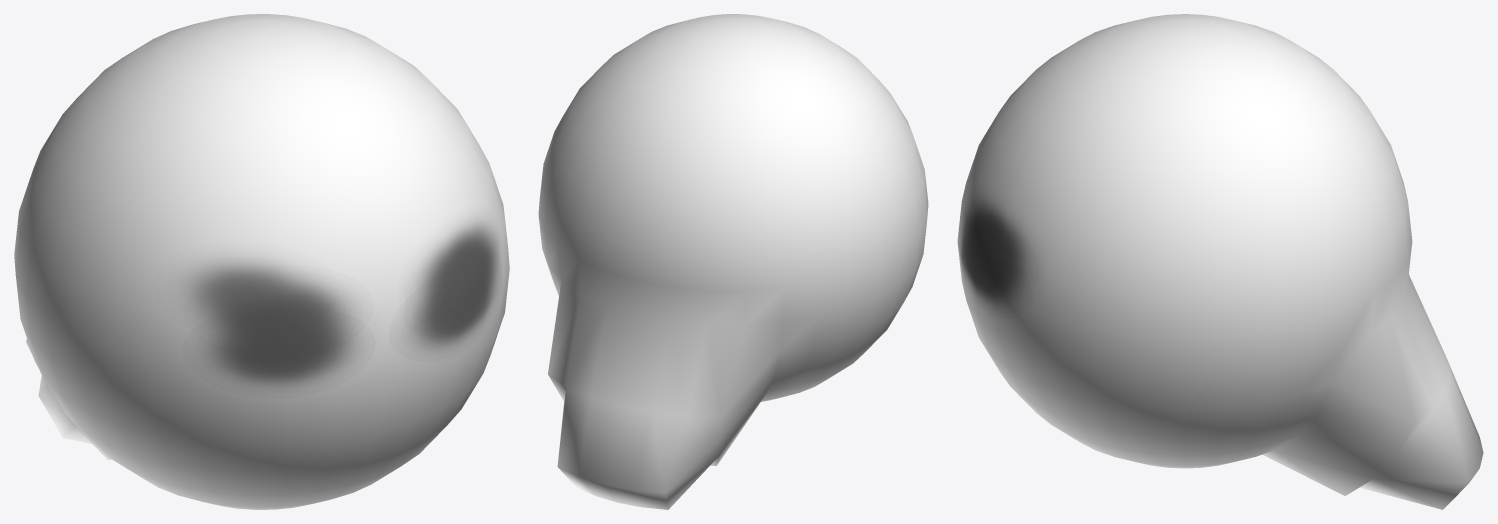
Rendered from player.obj.
The picture shows the model from 3 angles, left to right: view 1: azimuth 30°, elevation 25°; view 2: azimuth 150°, elevation 25°; view 3: azimuth 270°, elevation 25°; orthographic projection. The views are drawn at different scales.
Visible parts, largest first — view 1: 球; view 2: 球; view 3: 球.
Boxes of the visible parts, x1,y1,x2,y2 form: 球: (14,14,509,509); 球: (538,14,928,509); 球: (957,14,1483,509).
Size of the model in its own units: 1 by 1.09 by 1.16.
